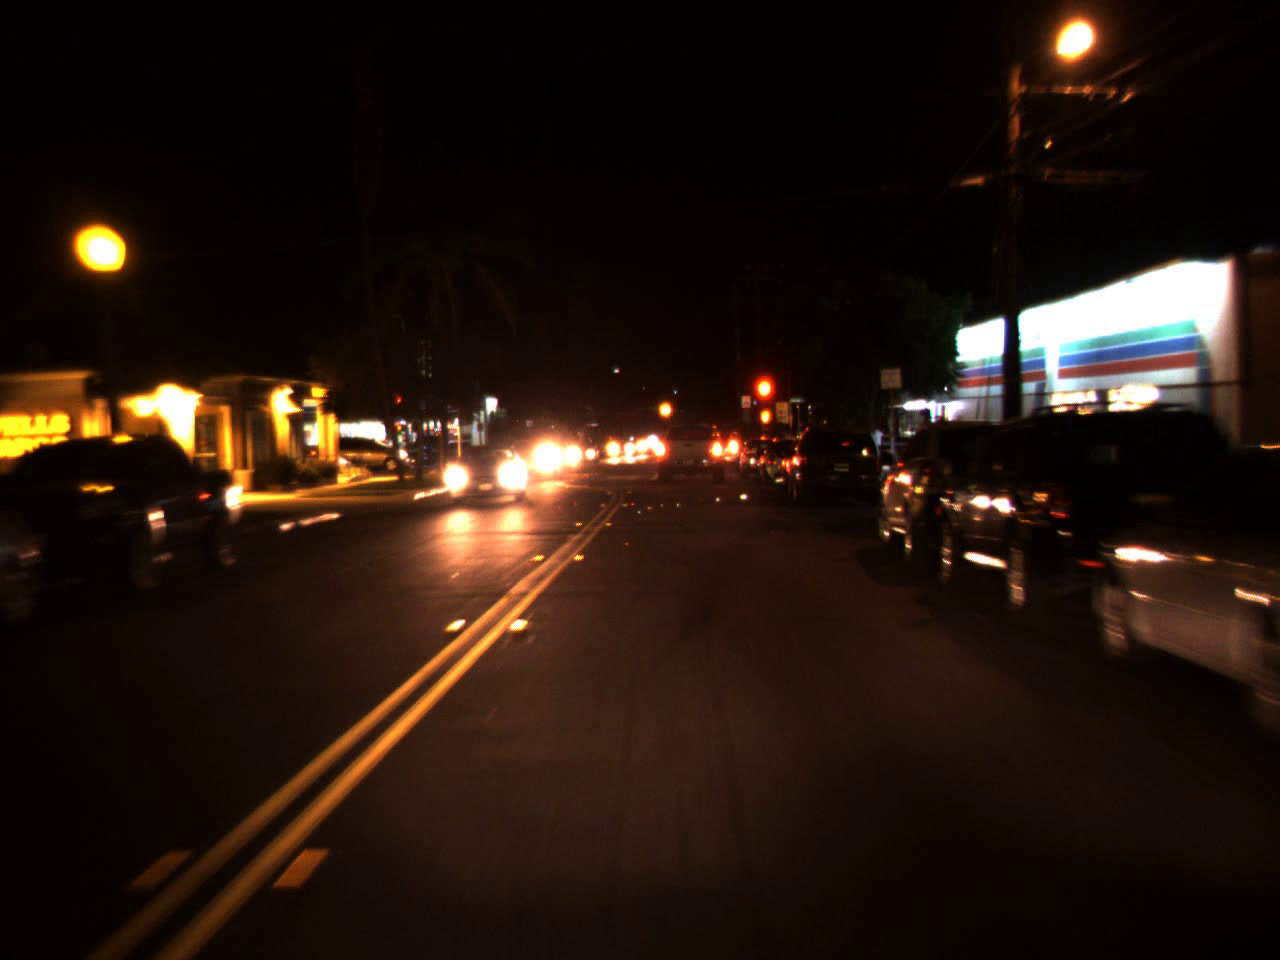stop: (749, 370, 779, 434), (390, 391, 403, 415)
warning: (655, 389, 676, 429)
